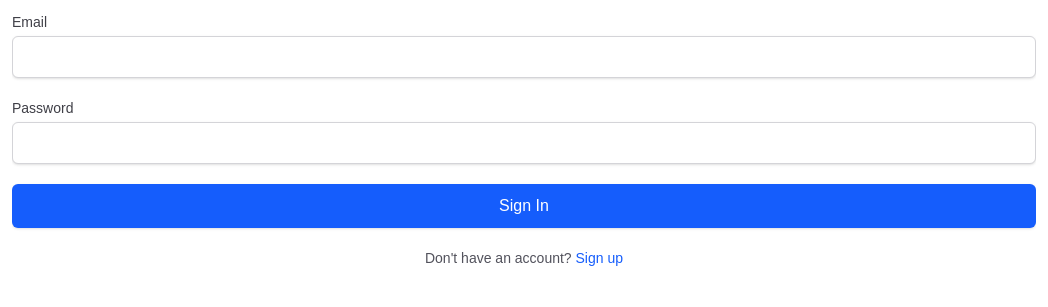
Test: SigninForm › shows validation error for invalid email format
In the field labelled "Email": (524, 57) [12,36,1036,78], type "not-an-email"
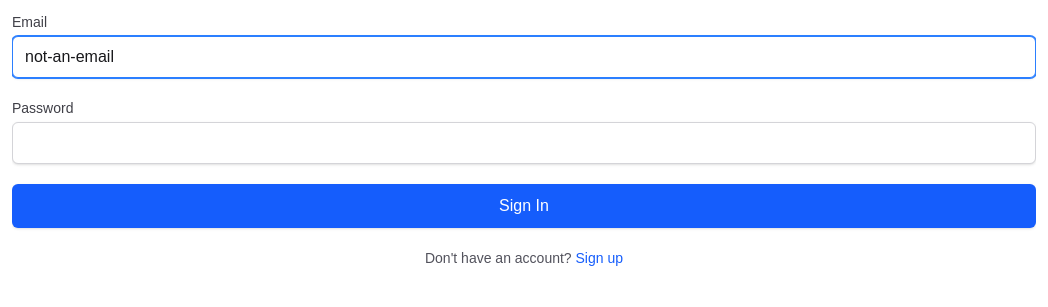
In the password field labelled "Password": (524, 143) [12,122,1036,164], type "password123"
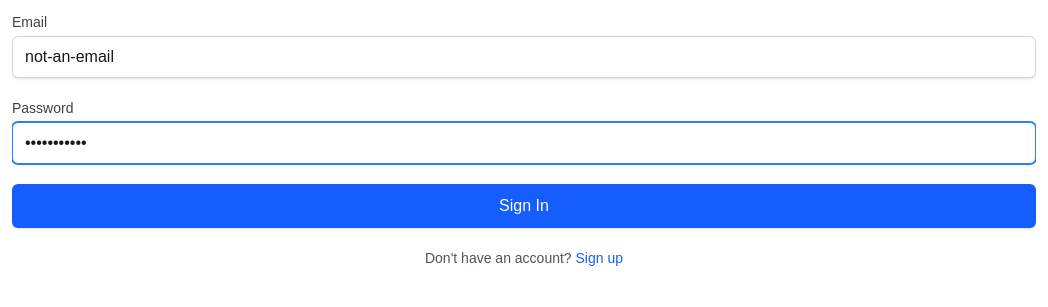
Click the button "Sign In": (524, 206) [12,184,1036,228]
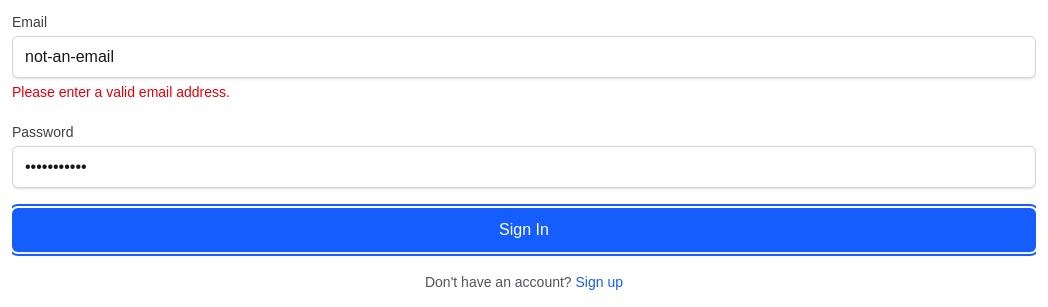
Expected: the text "Please enter a valid email address." is shown, [12,84,230,100]
